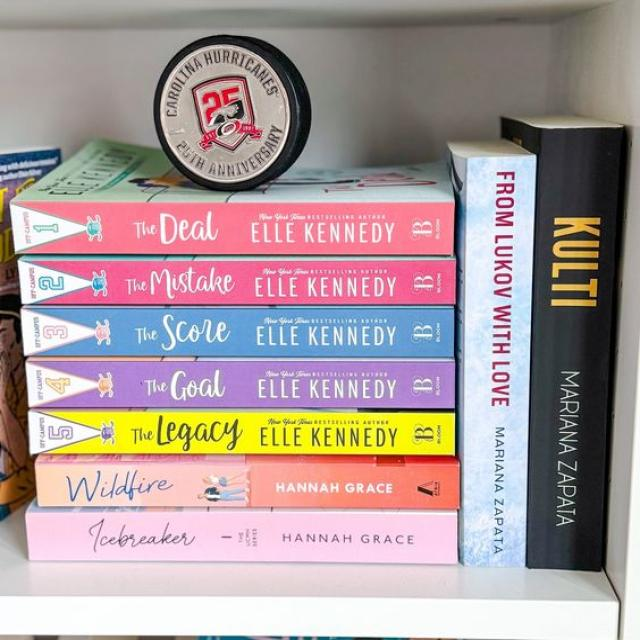book: (503, 118, 626, 570), (448, 142, 536, 567), (26, 502, 457, 564), (10, 201, 454, 254), (36, 456, 458, 510), (23, 307, 453, 358), (27, 357, 454, 408), (20, 258, 455, 305), (31, 411, 454, 454)
